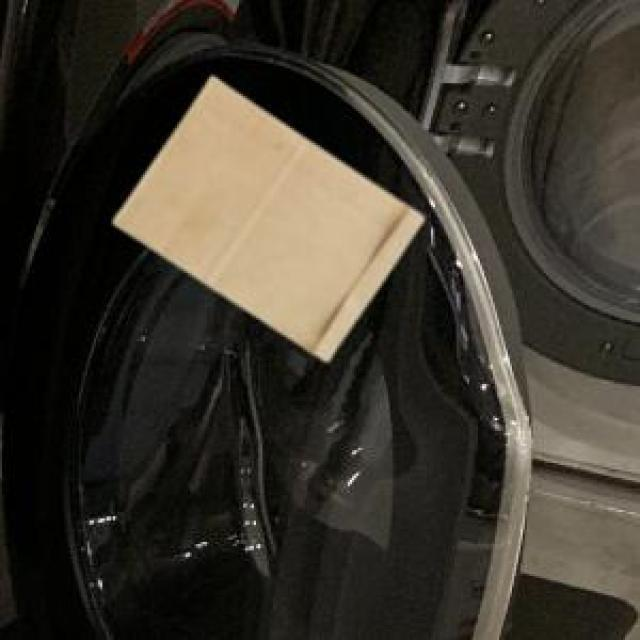paper: (111, 73, 418, 356)
